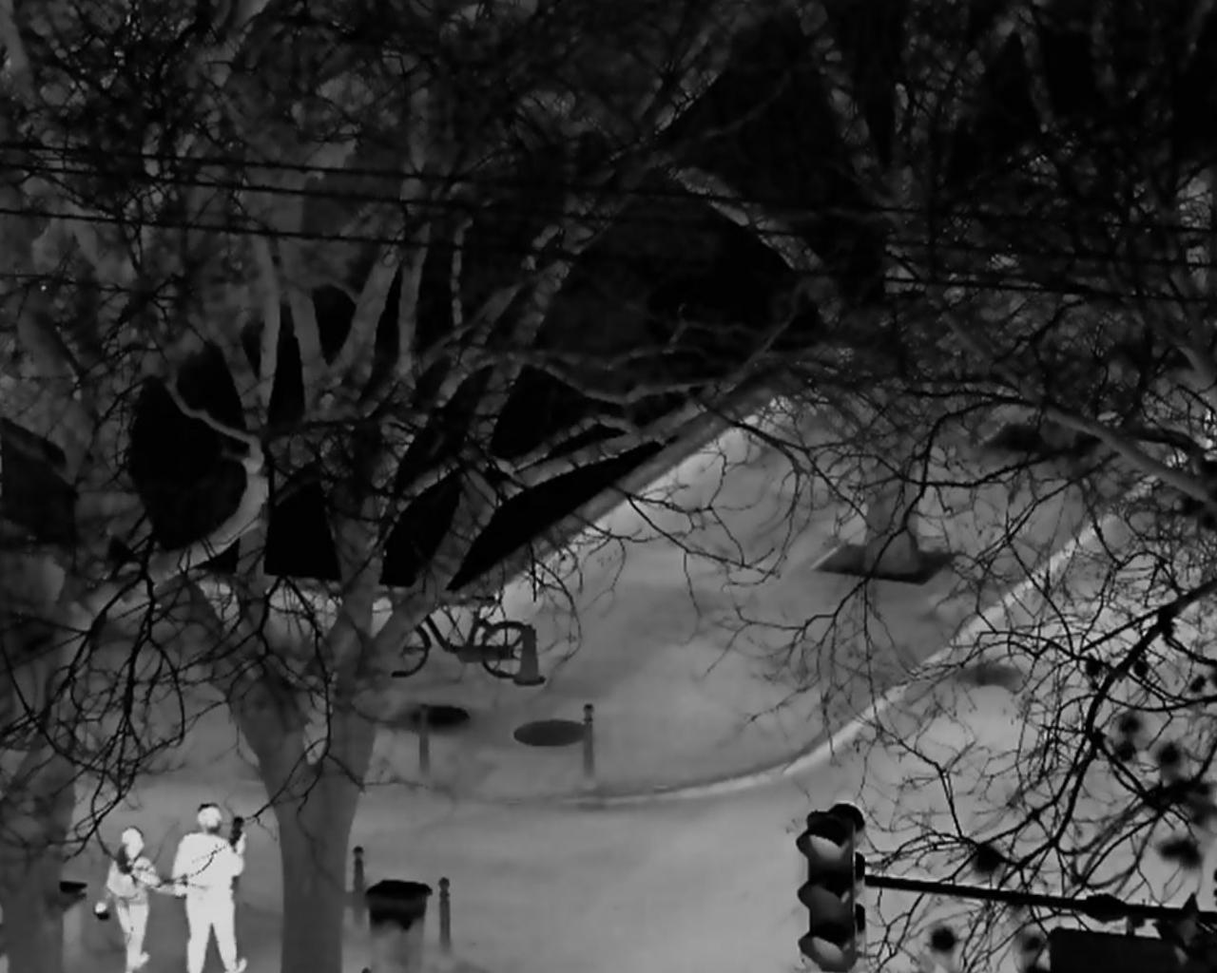person: (170, 804, 249, 973), (96, 825, 169, 973)
